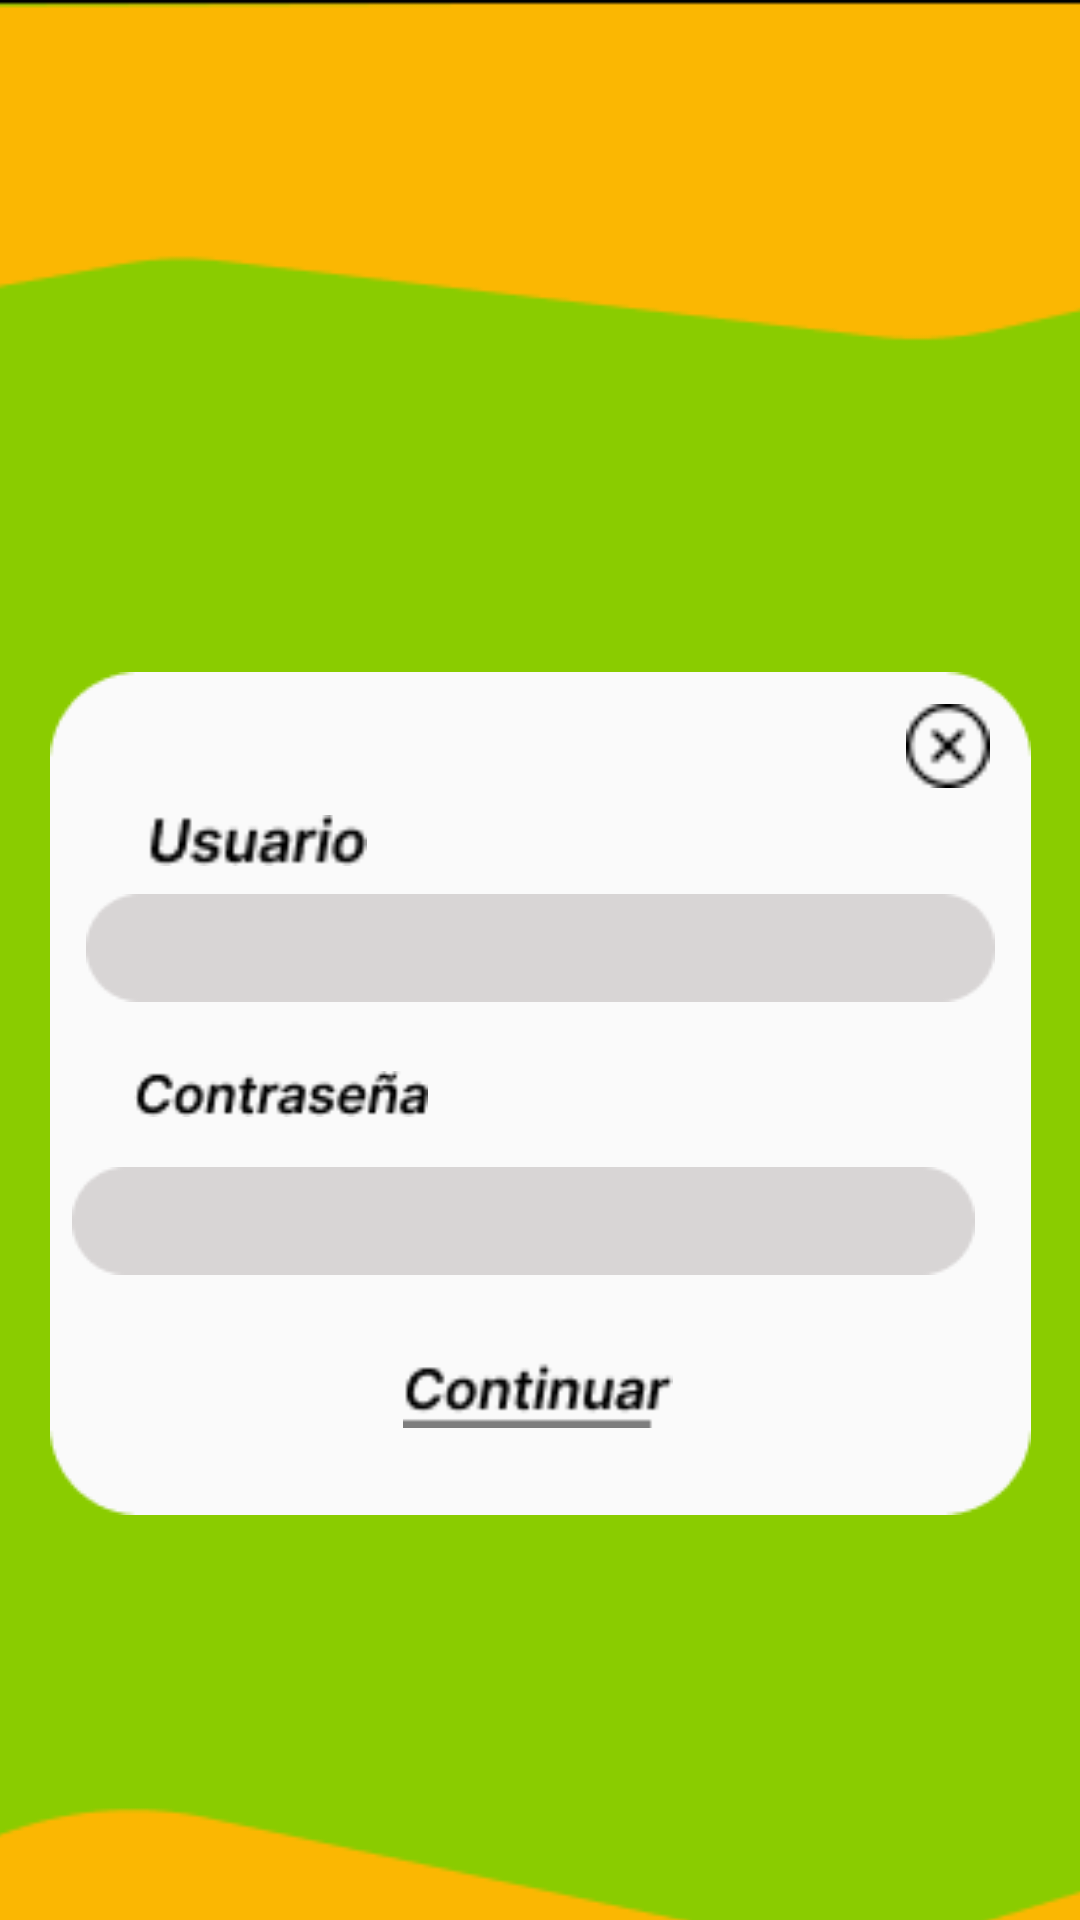

Icon bounding boxes for this 1080×1920 phone screenshot, format [left=x1, top=y1, right=x2, bottom=y2]:
volver: [left=906, top=704, right=990, bottom=788]
